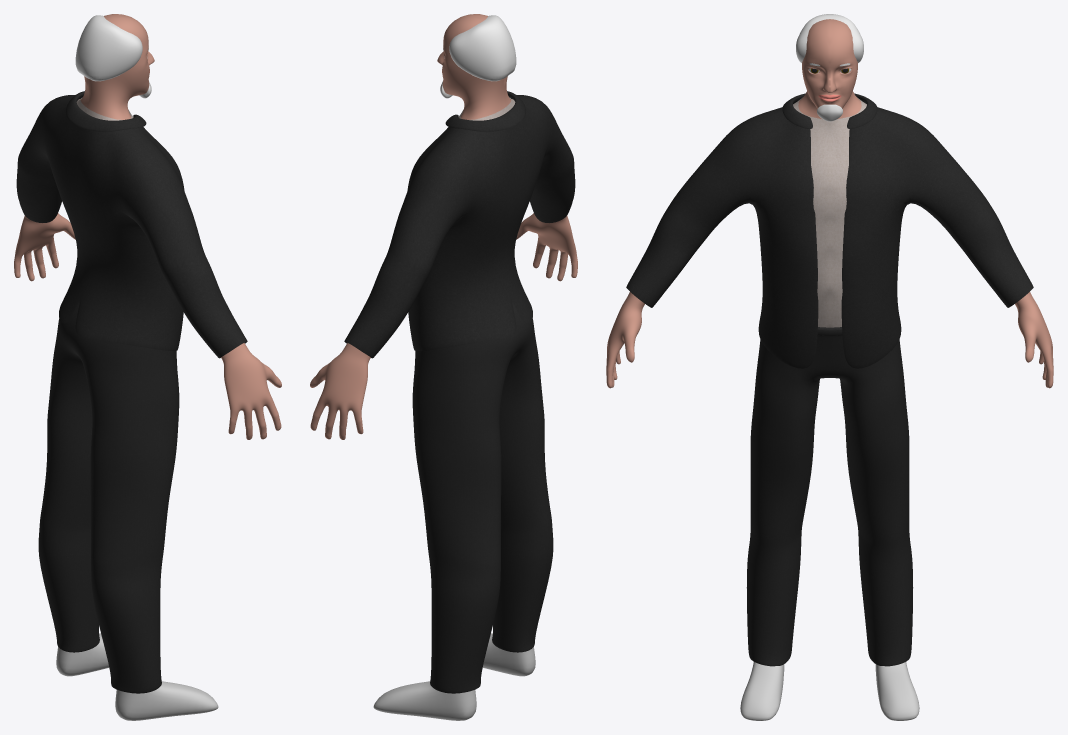
File: Volkhovsky.fbx
The picture shows the model from 3 angles, left to right: view 1: azimuth 30°, elevation 25°; view 2: azimuth 150°, elevation 25°; view 3: azimuth 270°, elevation 25°; orthographic projection.
Parts seen in each view (by area): view 1: pants, jacket, Body, boots, Hair; view 2: pants, jacket, Body, boots, Hair; view 3: jacket, pants, Body, shirt, boots, Hair.
Part boxes in pixels (left/top/right/bottom): pants: left=38, top=301, right=179, bottom=693; jacket: left=16, top=91, right=247, bottom=358; Body: left=14, top=14, right=281, bottom=439; boots: left=56, top=633, right=218, bottom=720; Hair: left=75, top=15, right=142, bottom=81; pants: left=412, top=301, right=553, bottom=693; jacket: left=344, top=91, right=575, bottom=358; Body: left=310, top=14, right=577, bottom=439; boots: left=373, top=633, right=535, bottom=720; Hair: left=449, top=15, right=516, bottom=81; jacket: left=626, top=93, right=1033, bottom=368; pants: left=746, top=327, right=913, bottom=666; Body: left=606, top=19, right=1053, bottom=388; shirt: left=793, top=97, right=866, bottom=327; boots: left=740, top=662, right=919, bottom=720; Hair: left=796, top=14, right=863, bottom=62.
Bounding box in the file's own units: 79.82 × 456 × 276.
